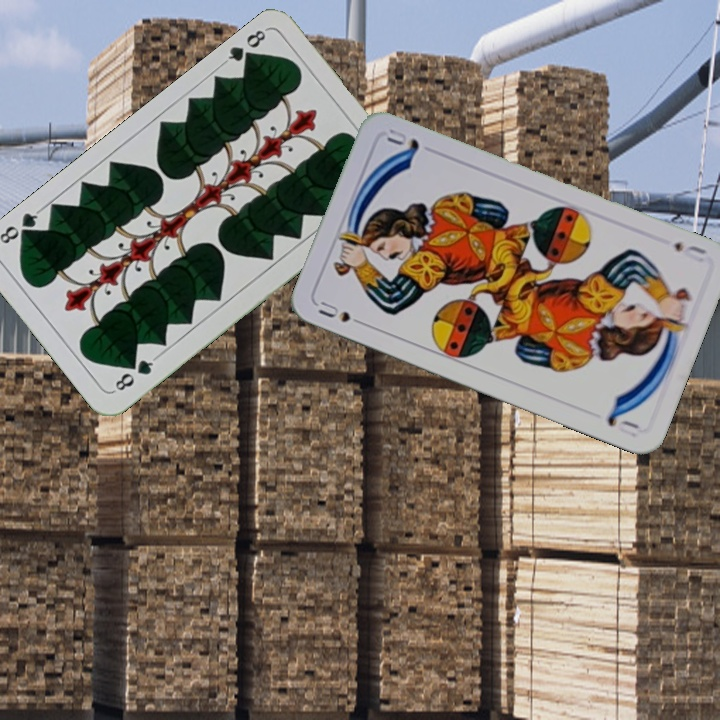G8: (219, 24, 270, 69), (109, 353, 159, 395)
SU: (314, 297, 370, 330), (670, 238, 710, 265)
